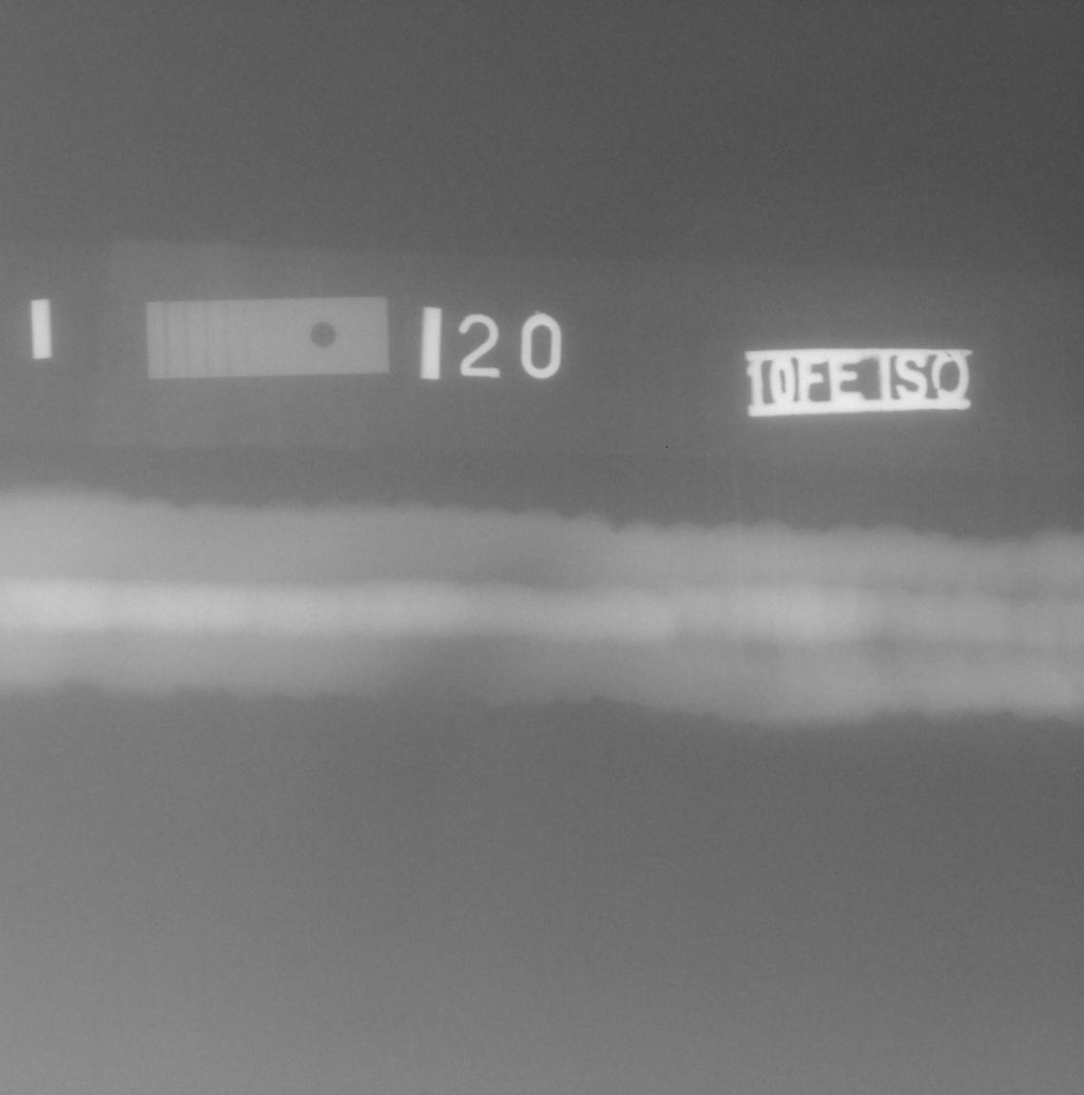Reference Standard 1: (145, 297, 389, 379)
